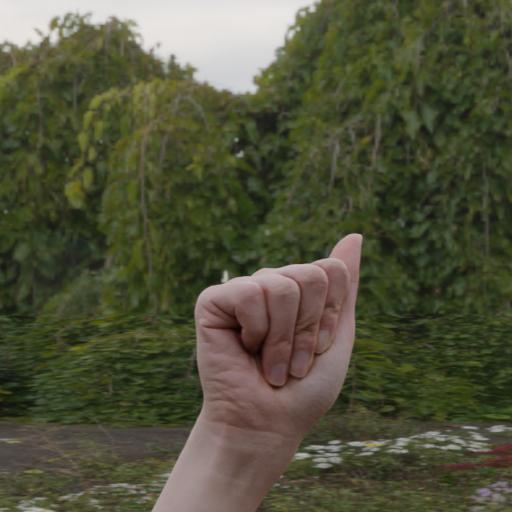A: (169, 211, 391, 458)
